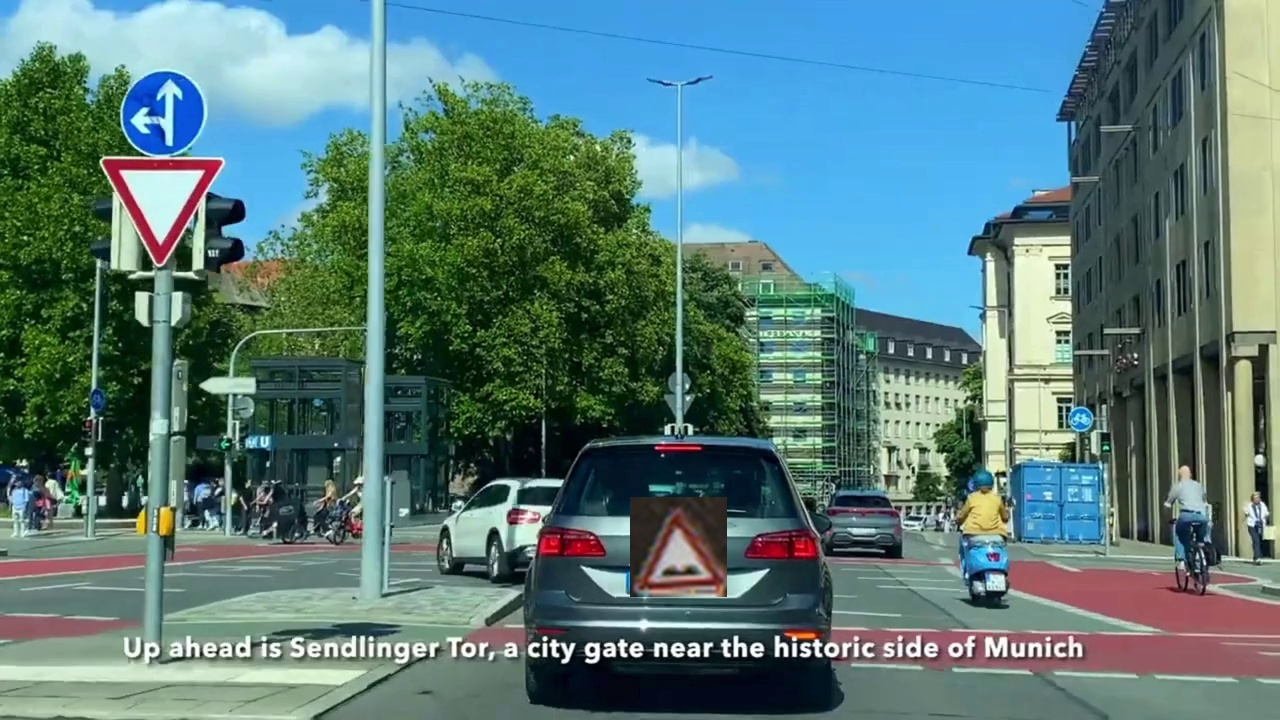Bumpy road: (630, 497, 727, 597)
